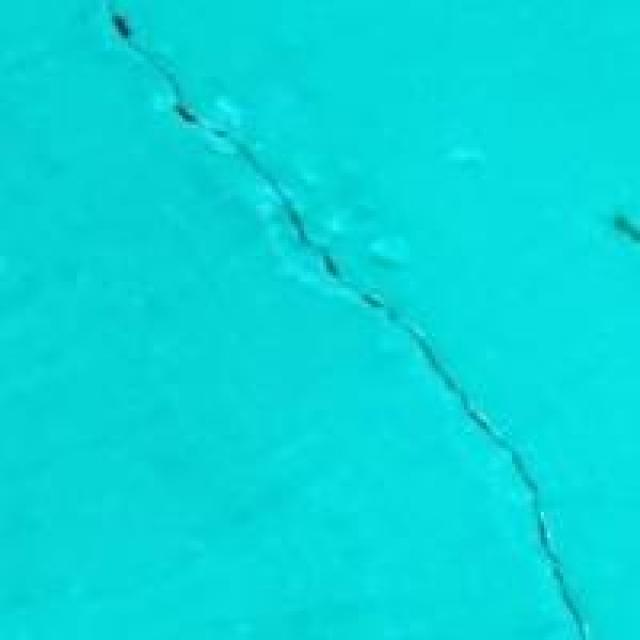crack: (124, 10, 586, 572)
